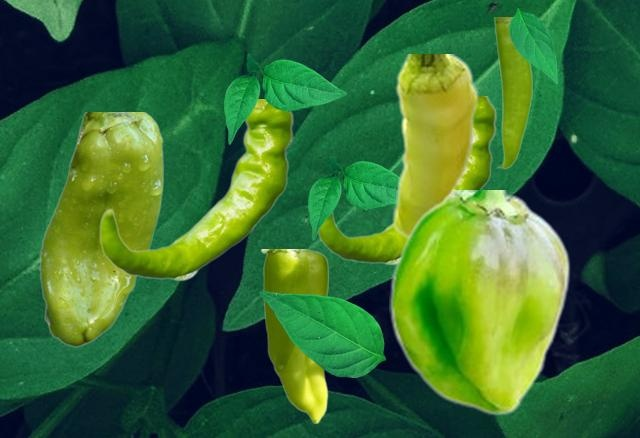green_chili: (389, 190, 570, 415), (99, 99, 293, 280), (318, 96, 496, 264), (39, 112, 162, 346), (391, 54, 478, 240), (260, 249, 327, 422), (493, 17, 531, 168)
